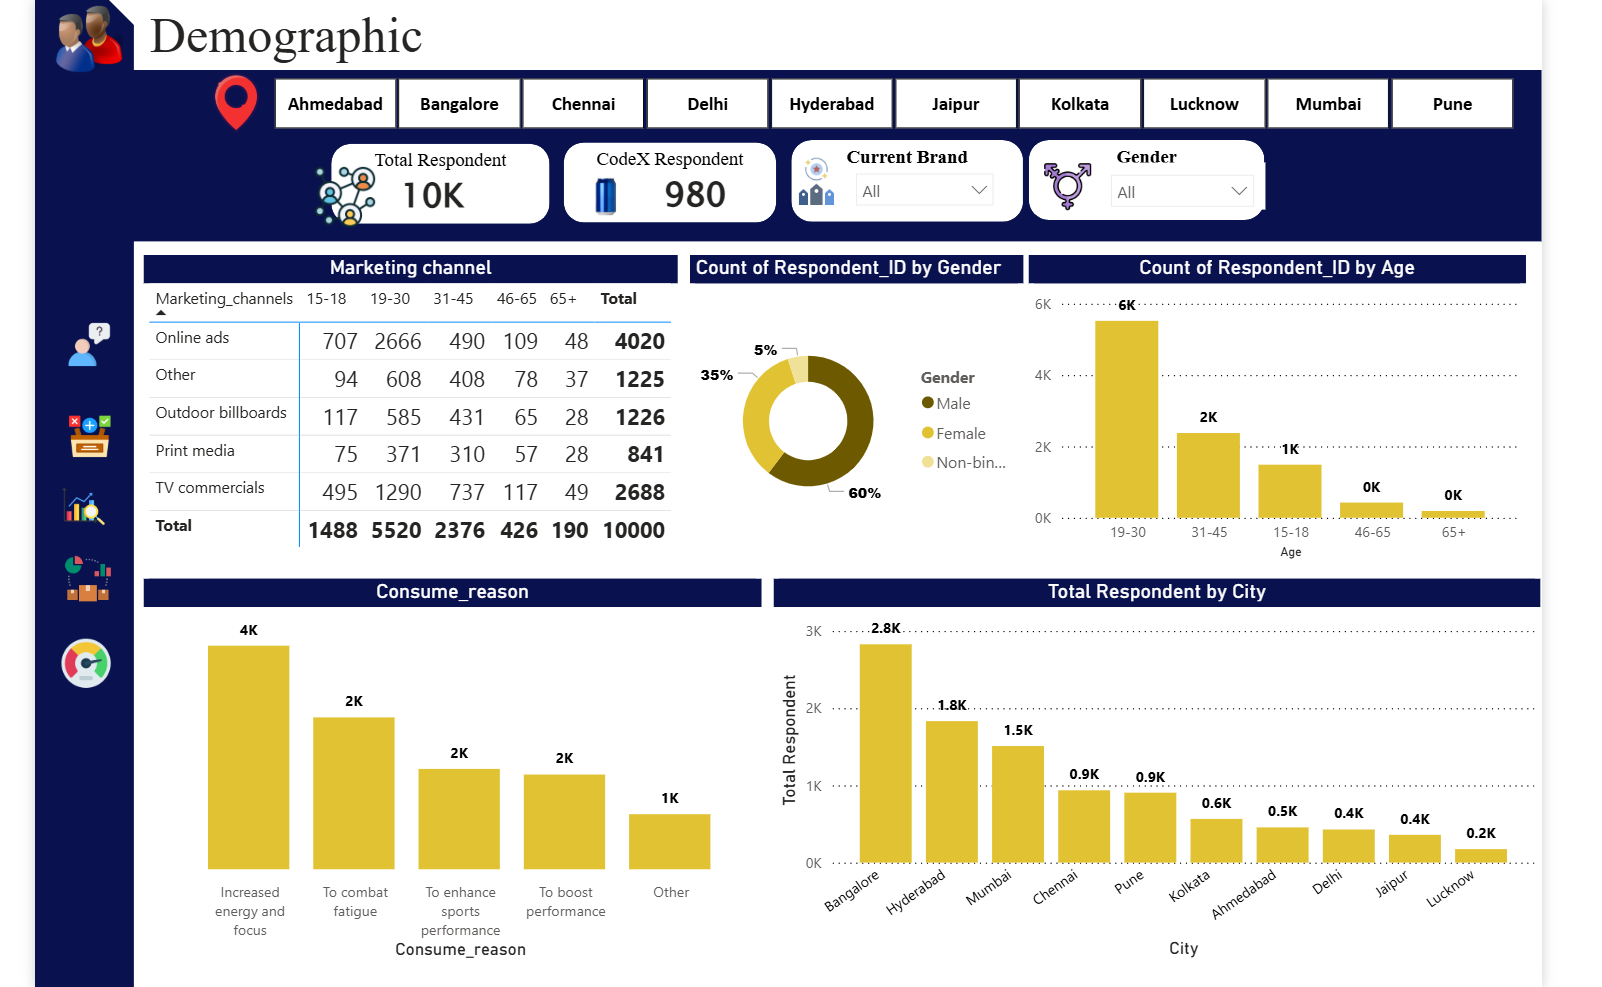

The dashboard page shown, as its layout file describes it:
{"tool":"powerbi","page":{"name":"Demographic","canvas":[1280,841],"ordinal":1},"visuals":[{"type":"shape","box":[67.9,59.6,1211.8,145.7],"z":0},{"type":"shape","box":[642.3,119.2,197,69.5],"z":1000},{"type":"textbox","box":[92.7,0,269.8,59.6],"z":2000},{"type":"shape","box":[0,0,84.1,841],"z":3000},{"type":"clusteredColumnChart","fields":{"Category":["dim_cities.City"],"Y":["measure.Total Respondent"]},"box":[627.1,491.4,651.4,327.1],"z":4000},{"type":"shape","box":[448.6,120.9,180.5,67.9],"z":5000},{"type":"card","fields":{"Values":["fact_survey_responses.codex respondent"]},"box":[509.9,137.4,102.6,56.3],"z":6000},{"type":"clusteredColumnChart","fields":{"Y":["CountNonNull(dim_repondents.Respondent_ID)"],"Category":["dim_repondents.Age"]},"box":[844.3,216.9,422.2,263.2],"z":7000},{"type":"shape","box":[251.6,122.5,185.4,67.9],"z":8000},{"type":"card","fields":{"Values":["measure.Total Respondent"]},"box":[263.2,140.7,149,49.7],"z":9000},{"type":"slicer","fields":{"Values":["dim_cities.City"]},"box":[177.1,59.6,1102.6,56.3],"z":10000},{"type":"donutChart","fields":{"Category":["dim_repondents.Gender"],"Y":["CountNonNull(dim_repondents.Respondent_ID)"]},"box":[556.3,216.9,283.1,263.2],"z":11000},{"type":"slicer","fields":{"Values":["fact_survey_responses.Current_brands"]},"box":[687,137.4,137.4,46.4],"z":12000},{"type":"shape","box":[844.3,119.2,200.3,67.9],"z":13000},{"type":"slicer","fields":{"Values":["dim_repondents.Gender"]},"box":[903.3,138.3,141.7,40],"z":14000},{"type":"pivotTable","title":"Marketing channel","fields":{"Rows":["fact_survey_responses.Marketing_channels"],"Values":["measure.Total Respondent"],"Columns":["dim_repondents.Age"]},"box":[92.7,216.9,453.6,263.2],"z":15000},{"type":"image","box":[845,133.3,63.3,50],"z":16000},{"type":"image","box":[104.3,54.6,134.1,66.2],"z":17000},{"type":"image","box":[195.4,137.4,135.8,61.3],"z":18000},{"type":"clusteredColumnChart","title":"Consume_reason","fields":{"Y":["CountNonNull(dim_repondents.Respondent_ID)"],"Category":["fact_survey_responses.Consume_reason"]},"box":[92.7,491.7,524.8,327.8],"z":19000},{"type":"image","box":[628.3,128.3,70,51.7],"z":20000},{"type":"image","box":[448.3,143.3,73.3,46.7],"z":21000},{"type":"image","box":[0,0,91.7,66.7],"z":22000},{"type":"image","box":[21.7,265,50,55],"z":23000},{"type":"image","box":[23.3,348.3,46.7,45],"z":24000},{"type":"image","box":[18.3,405,46.7,51.7],"z":25000},{"type":"image","box":[20,465,50,53.3],"z":26000},{"type":"image","box":[16.7,536.7,53.3,55],"z":27000},{"type":"actionButton","box":[16.7,273.3,55,40],"z":28000},{"type":"actionButton","box":[16.7,348.3,55,40],"z":29000},{"type":"actionButton","box":[16.7,411.7,51.7,40],"z":30000},{"type":"actionButton","box":[20,465,51.7,46.7],"z":31000},{"type":"actionButton","box":[16.7,536.7,55,48.3],"z":32000}]}

Visuals, with their boxes on the page's 1280x841 design canvas (x1, y1, x2, y2). These are canvas units, not pixel positions in the 1602x987 screenshot, which may show the page scaled, cropped or inside an application window:
shape: detection(68, 60, 1280, 205)
shape: detection(642, 119, 839, 189)
textbox: detection(93, 0, 362, 60)
shape: detection(0, 0, 84, 841)
clusteredColumnChart - dim_cities.City x measure.Total Respondent: detection(627, 491, 1278, 818)
shape: detection(449, 121, 629, 189)
card - fact_survey_responses.codex respondent: detection(510, 137, 612, 194)
clusteredColumnChart - CountNonNull(dim_repondents.Respondent_ID) x dim_repondents.Age: detection(844, 217, 1266, 480)
shape: detection(252, 122, 437, 190)
card - measure.Total Respondent: detection(263, 141, 412, 190)
slicer - dim_cities.City: detection(177, 60, 1280, 116)
donutChart - dim_repondents.Gender x CountNonNull(dim_repondents.Respondent_ID): detection(556, 217, 839, 480)
slicer - fact_survey_responses.Current_brands: detection(687, 137, 824, 184)
shape: detection(844, 119, 1045, 187)
slicer - dim_repondents.Gender: detection(903, 138, 1045, 178)
"Marketing channel" pivotTable: detection(93, 217, 546, 480)
image: detection(845, 133, 908, 183)
image: detection(104, 55, 238, 121)
image: detection(195, 137, 331, 199)
"Consume_reason" clusteredColumnChart: detection(93, 492, 618, 820)
image: detection(628, 128, 698, 180)
image: detection(448, 143, 522, 190)
image: detection(0, 0, 92, 67)
image: detection(22, 265, 72, 320)
image: detection(23, 348, 70, 393)
image: detection(18, 405, 65, 457)
image: detection(20, 465, 70, 518)
image: detection(17, 537, 70, 592)
actionButton: detection(17, 273, 72, 313)
actionButton: detection(17, 348, 72, 388)
actionButton: detection(17, 412, 68, 452)
actionButton: detection(20, 465, 72, 512)
actionButton: detection(17, 537, 72, 585)
